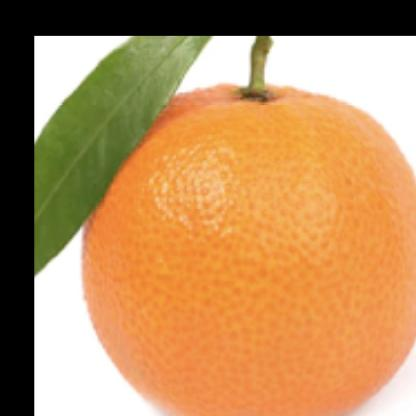rotten: (78, 76, 416, 416)
